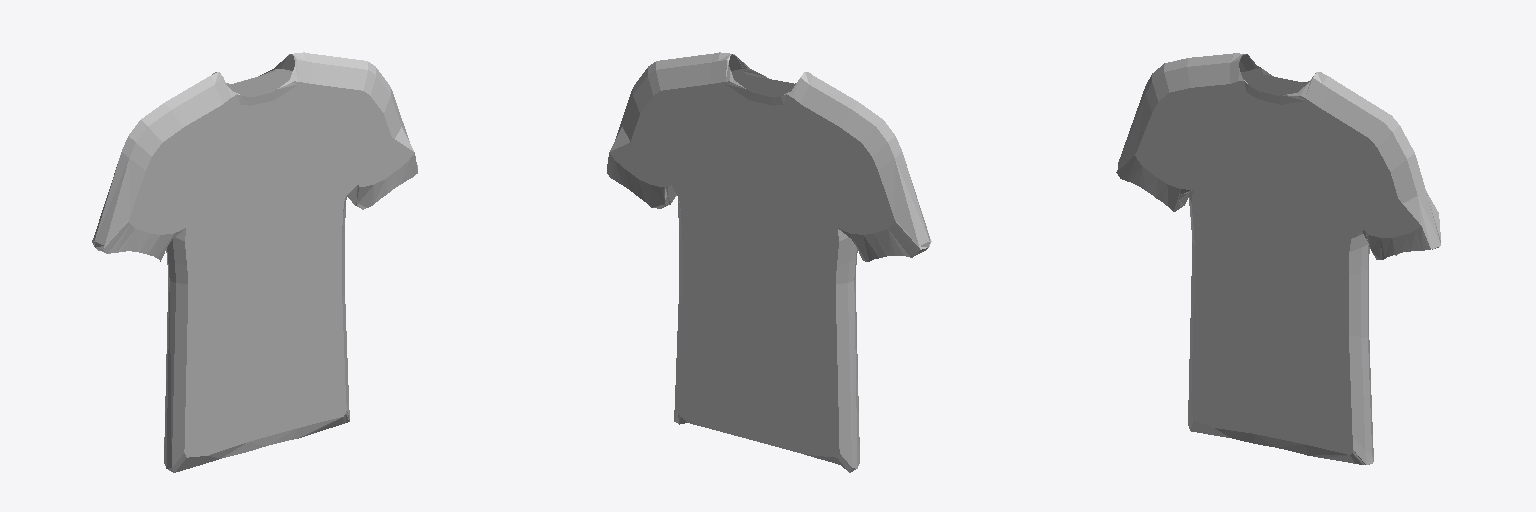
3 renders of one model, left to right at view 1: azimuth 30°, elevation 25°; view 2: azimuth 150°, elevation 25°; view 3: azimuth 330°, elevation 25°, orthographic.
Parts seen in each view (by area): view 1: Mesh2 Group_1_1 Group_3_1 Low_Poly_White_T_Shirt__337Kb_1 Model, Mesh1 Group_2_1 Group_3_1 Low_Poly_White_T_Shirt__337Kb_1 Model; view 2: Mesh2 Group_1_1 Group_3_1 Low_Poly_White_T_Shirt__337Kb_1 Model, Mesh1 Group_2_1 Group_3_1 Low_Poly_White_T_Shirt__337Kb_1 Model; view 3: Mesh2 Group_1_1 Group_3_1 Low_Poly_White_T_Shirt__337Kb_1 Model, Mesh1 Group_2_1 Group_3_1 Low_Poly_White_T_Shirt__337Kb_1 Model.
Part boxes in pixels (bbox=[...]): Mesh2 Group_1_1 Group_3_1 Low_Poly_White_T_Shirt__337Kb_1 Model: bbox=[92, 52, 417, 472]; Mesh1 Group_2_1 Group_3_1 Low_Poly_White_T_Shirt__337Kb_1 Model: bbox=[210, 52, 305, 105]; Mesh2 Group_1_1 Group_3_1 Low_Poly_White_T_Shirt__337Kb_1 Model: bbox=[607, 52, 931, 472]; Mesh1 Group_2_1 Group_3_1 Low_Poly_White_T_Shirt__337Kb_1 Model: bbox=[718, 52, 813, 105]; Mesh2 Group_1_1 Group_3_1 Low_Poly_White_T_Shirt__337Kb_1 Model: bbox=[1116, 53, 1440, 464]; Mesh1 Group_2_1 Group_3_1 Low_Poly_White_T_Shirt__337Kb_1 Model: bbox=[1230, 53, 1327, 104].
Size of the model in its own units: 2351 by 2688 by 228.